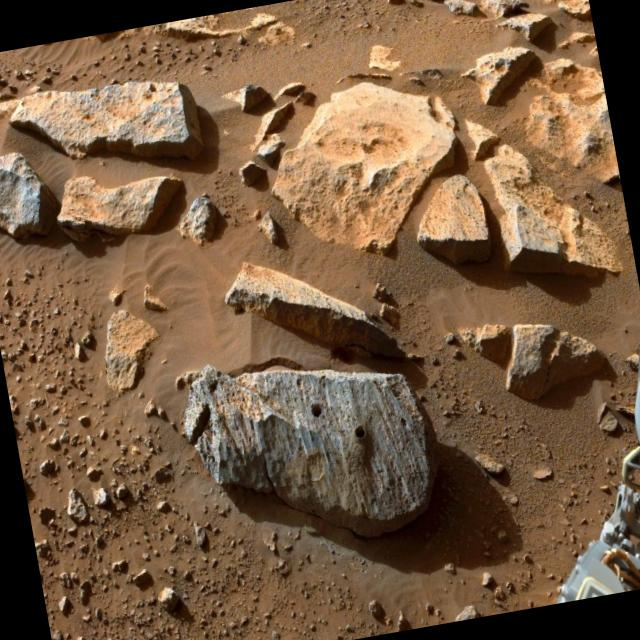red-sand: (0, 237, 602, 640)
stone: (185, 369, 436, 534), (273, 82, 456, 250), (484, 144, 619, 274), (225, 264, 405, 357), (10, 80, 202, 157), (527, 91, 620, 181), (506, 324, 606, 398), (58, 175, 183, 234), (417, 174, 491, 262), (0, 152, 57, 236), (465, 46, 536, 104)
